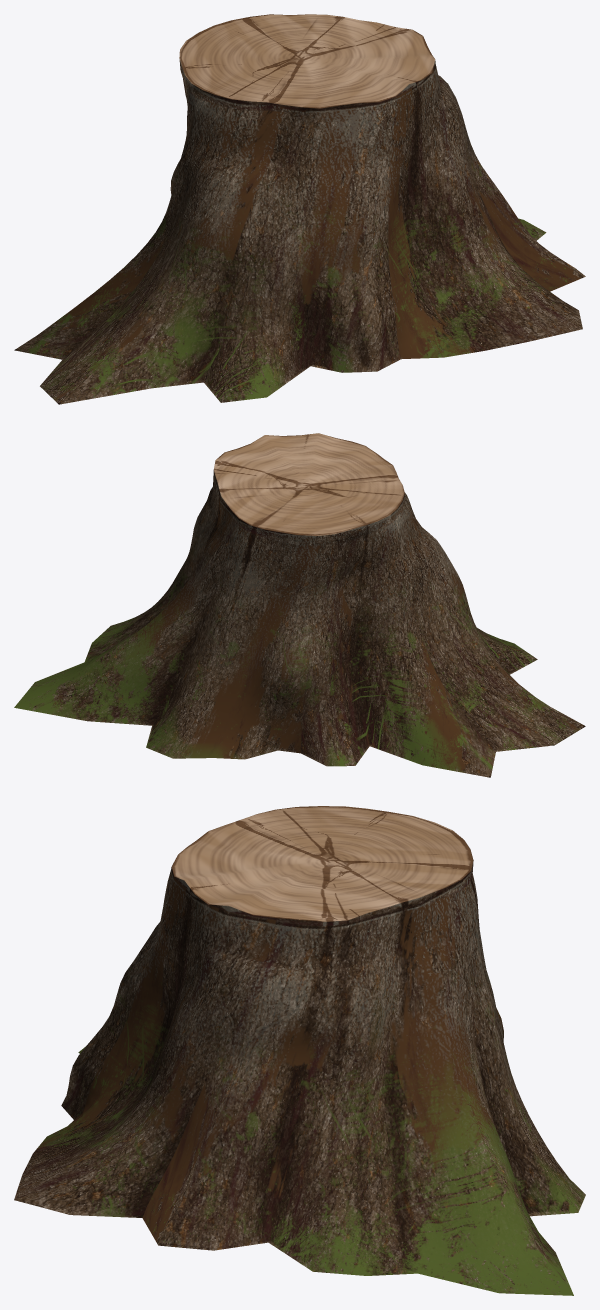
File: SM_Stump.fbx
3 renders of one model, top to bottom at view 1: azimuth 30°, elevation 25°; view 2: azimuth 150°, elevation 25°; view 3: azimuth 270°, elevation 25°, orthographic. The views are drawn at different scales.
Parts seen in each view (by area): view 1: SM_Stump_LOD0; view 2: SM_Stump_LOD0; view 3: SM_Stump_LOD0.
Boxes of the visible parts, x1,y1,x2,y2 form: SM_Stump_LOD0: (14, 14, 585, 404); SM_Stump_LOD0: (14, 433, 585, 777); SM_Stump_LOD0: (14, 806, 585, 1295).
Size of the model in its own units: 278 by 215 by 131.
